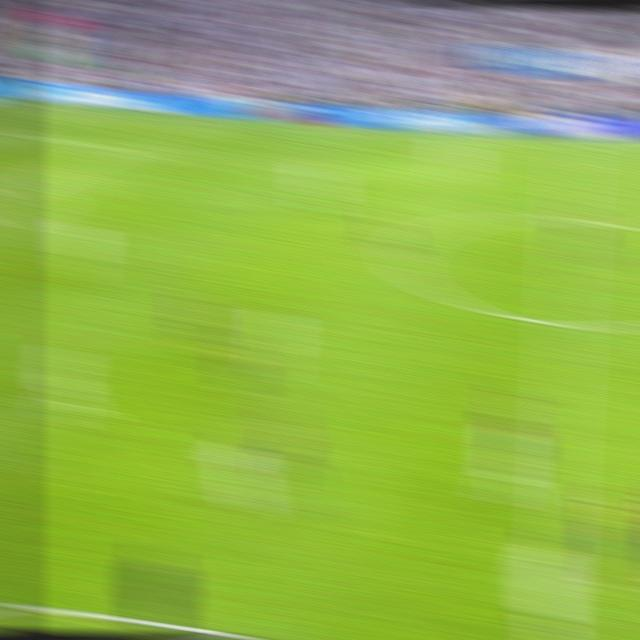corner: (0, 93, 27, 107)
halfcircle_bottom: (545, 306, 583, 340)
halfcircle_top: (552, 205, 586, 234)
midline_top_intersection: (557, 134, 590, 154)
top_arc_area_intersection: (22, 170, 54, 190)
